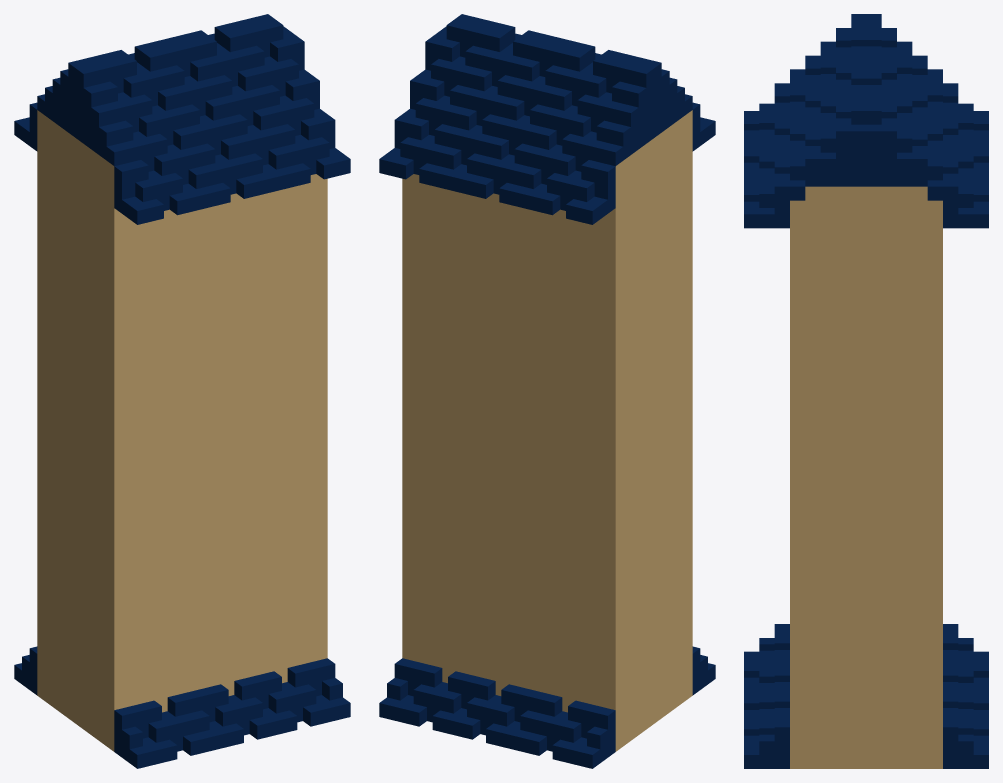
The model's file is OutsideWalls_TiledCenter.obj.
The picture shows the model from 3 angles, left to right: view 1: azimuth 30°, elevation 25°; view 2: azimuth 150°, elevation 25°; view 3: azimuth 270°, elevation 25°; orthographic projection.
Visible parts, largest first — view 1: OutsideWalls_TiledCenter; view 2: OutsideWalls_TiledCenter; view 3: OutsideWalls_TiledCenter.
Part boxes in pixels (box(x1,y1,x2,y2)): OutsideWalls_TiledCenter: box(14, 14, 350, 768); OutsideWalls_TiledCenter: box(379, 14, 715, 768); OutsideWalls_TiledCenter: box(744, 14, 988, 768).
Bounding box in the file's own units: 16 × 47 × 16.
1 material, 1 textured.
